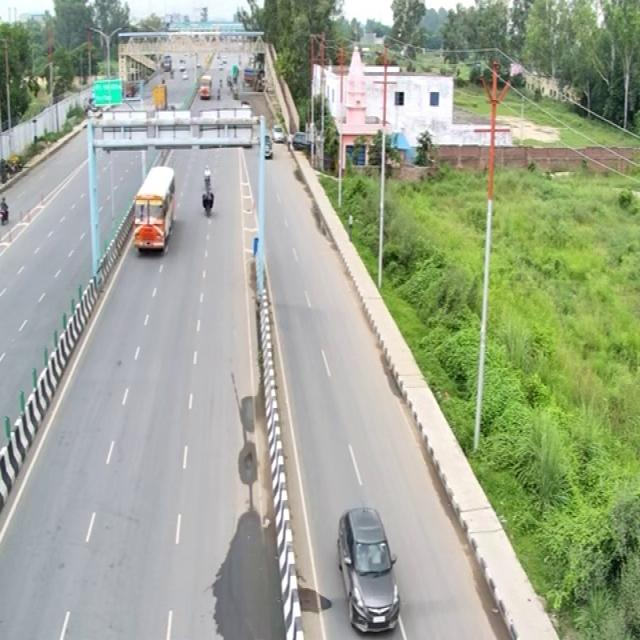car: (446, 376, 538, 476), (170, 120, 242, 191)
